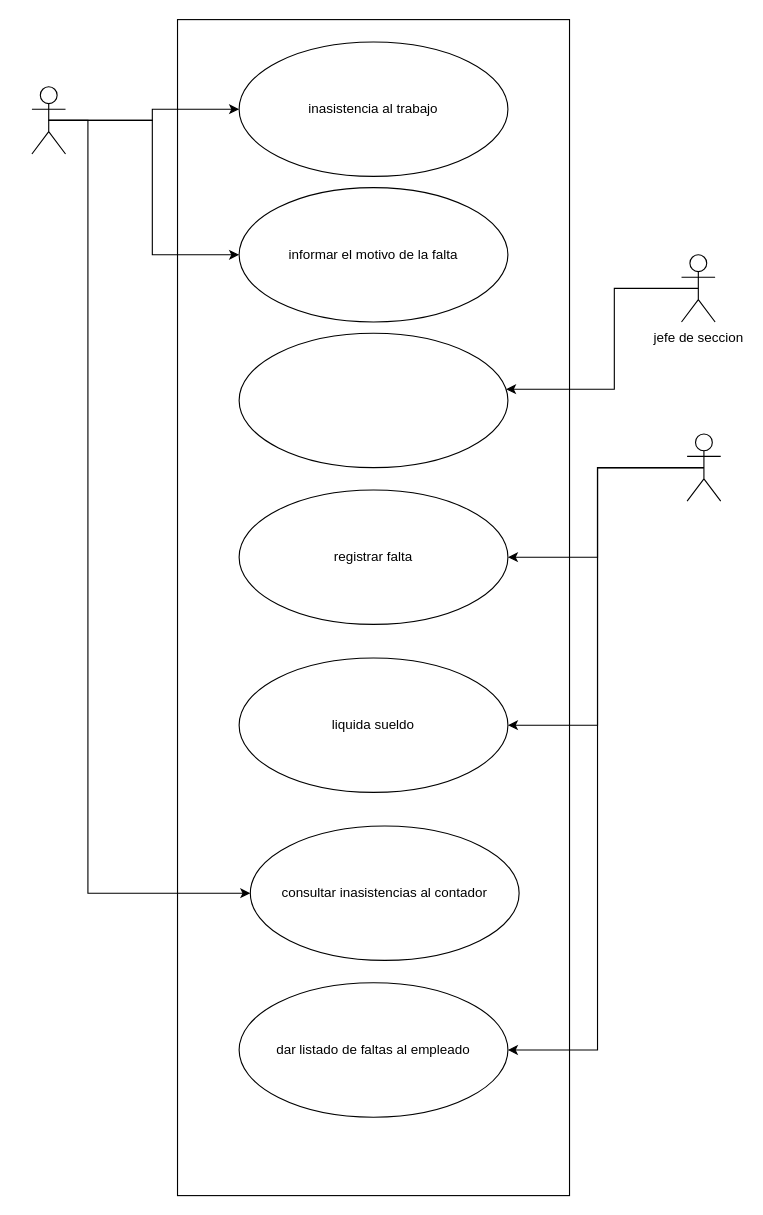
This 763x1215 diagram has some shape labels left out. Each missing label, with the centre of its shape:
"contador" belongs at [703,467].
"empleado" belongs at [48,120].
"informa al contador" belongs at [373,400].
